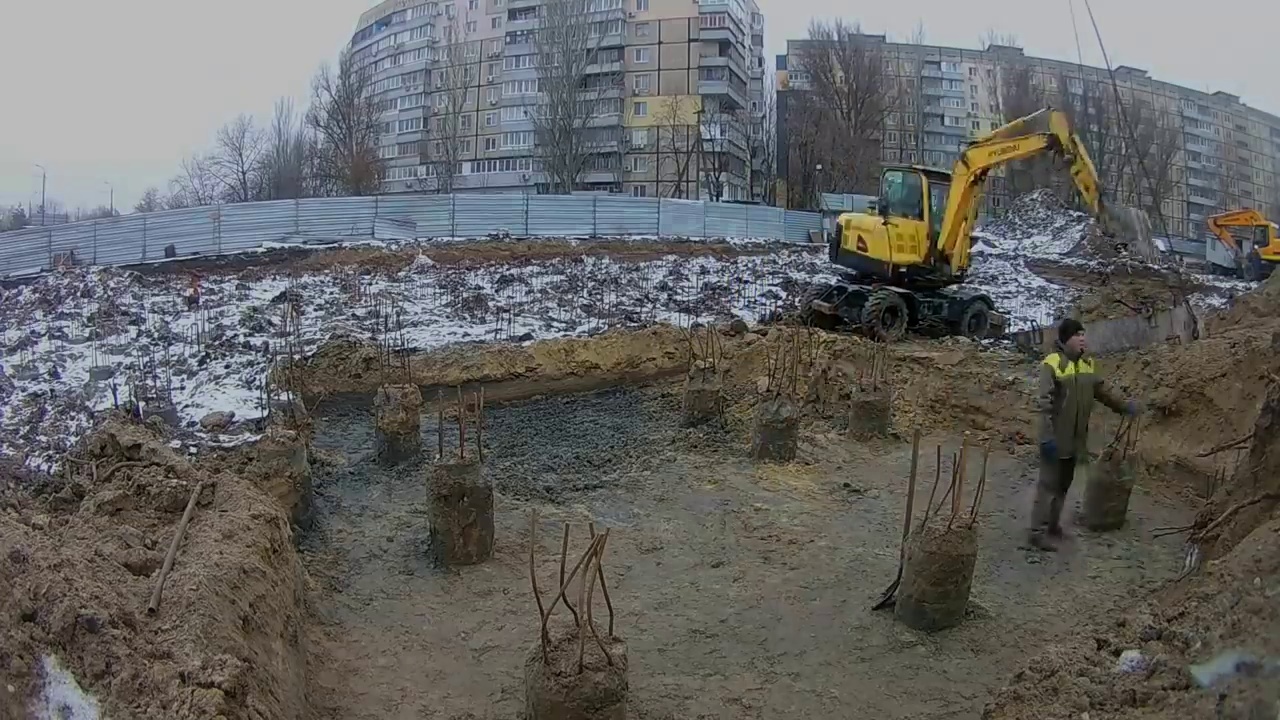helmet-off: (1060, 324, 1095, 358)
person: (1027, 324, 1142, 554)
